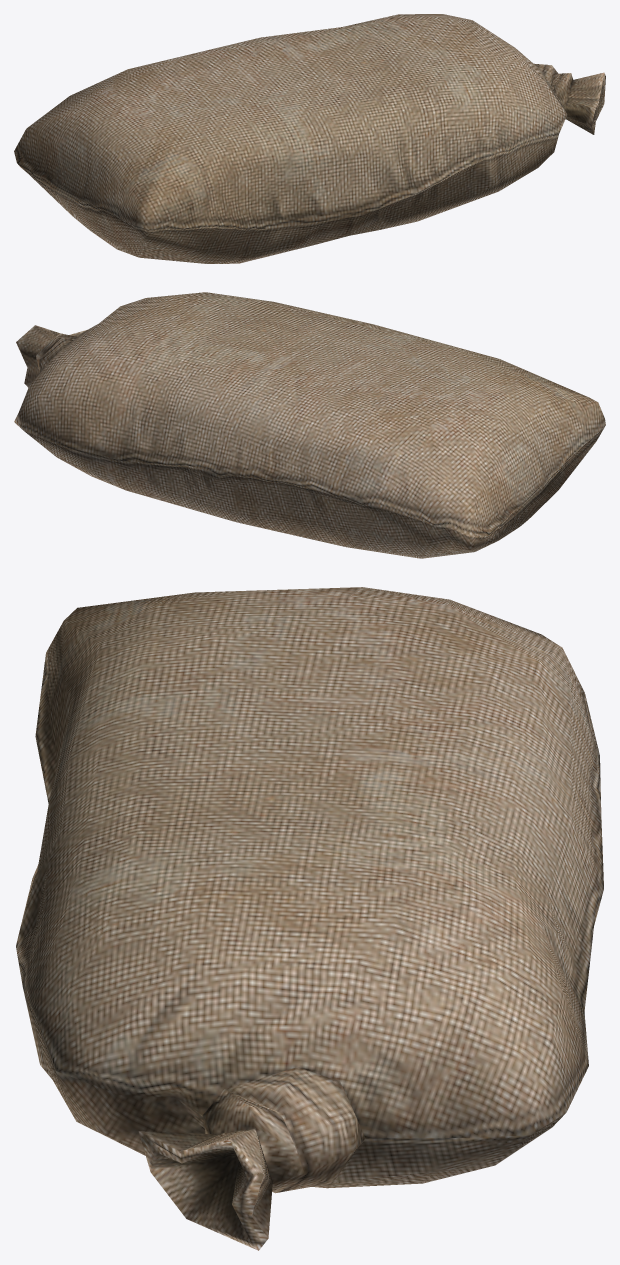
Rendered from Sandbags_1C.fbx.
The picture shows the model from 3 angles, top to bottom: view 1: azimuth 30°, elevation 25°; view 2: azimuth 150°, elevation 25°; view 3: azimuth 270°, elevation 25°; orthographic projection. The views are drawn at different scales.
Visible parts, largest first — view 1: Bag2_400tris_Group28761; view 2: Bag2_400tris_Group28761; view 3: Bag2_400tris_Group28761.
Part boxes in pixels (x1,y1,x2,y2): Bag2_400tris_Group28761: [14, 14, 605, 263]; Bag2_400tris_Group28761: [14, 292, 605, 558]; Bag2_400tris_Group28761: [16, 587, 603, 1250].
Size of the model in its own units: 1.13 by 0.2914 by 0.5521.
